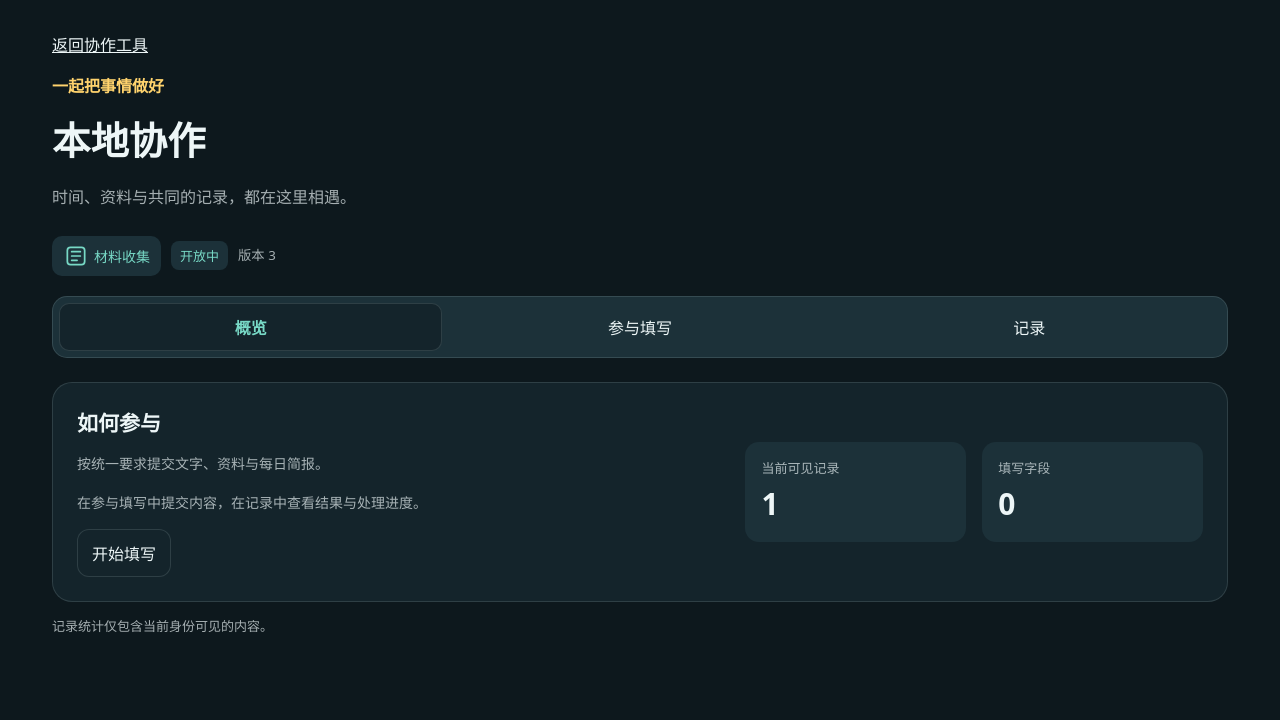
Test: refreshes versions after conflict while preserving the selected record and draft
Click the tab "参与填写". click: click(640, 326)
box: [448,302,832,350]
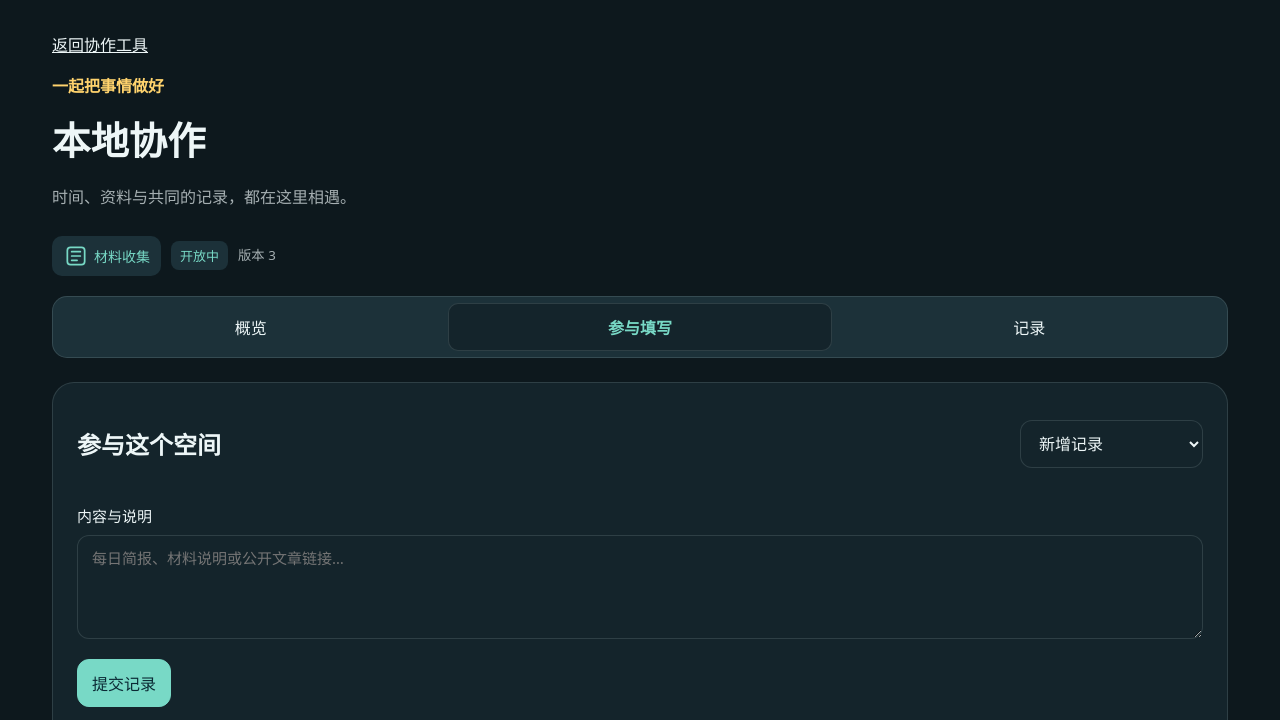
Select "同学 · 10/12 08:00" in the dropdown named "编辑现有记录". click: (1112, 444)
box: [1020,420,1203,468]
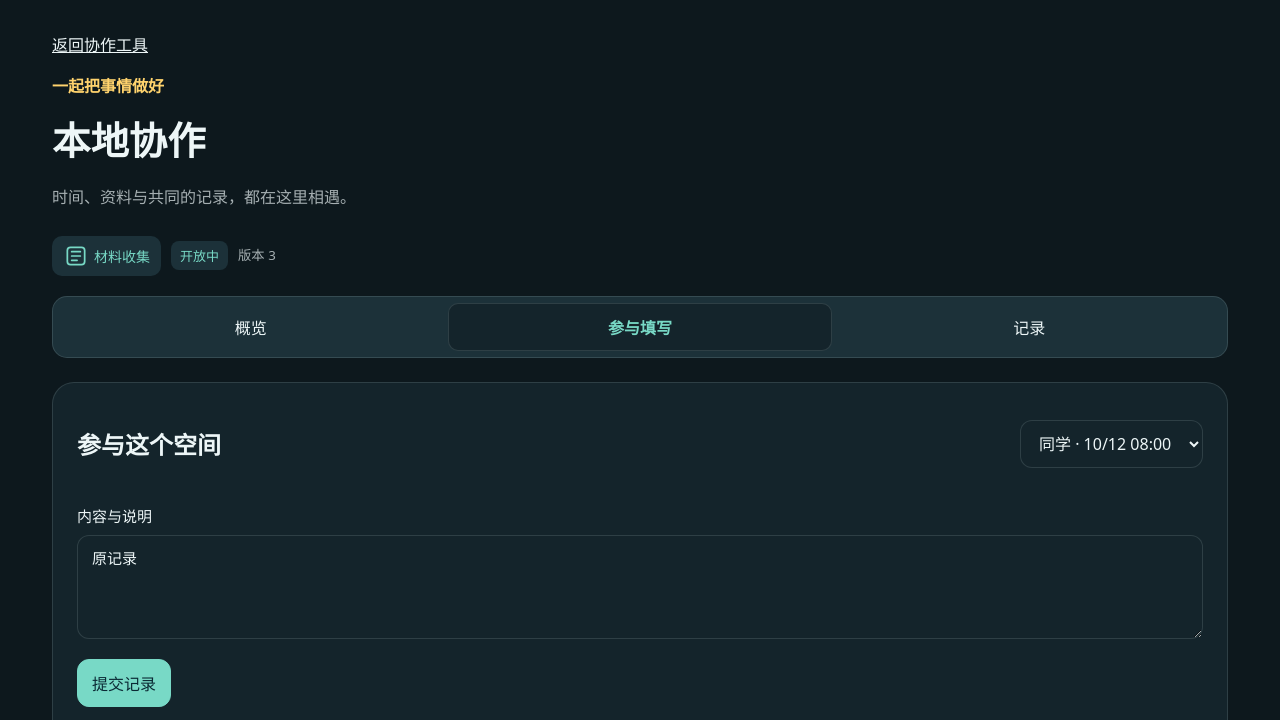
Replace the text in the text box labelled "内容与说明" with "Unsaved draft". click: (640, 587)
box: [77,535,1203,639]
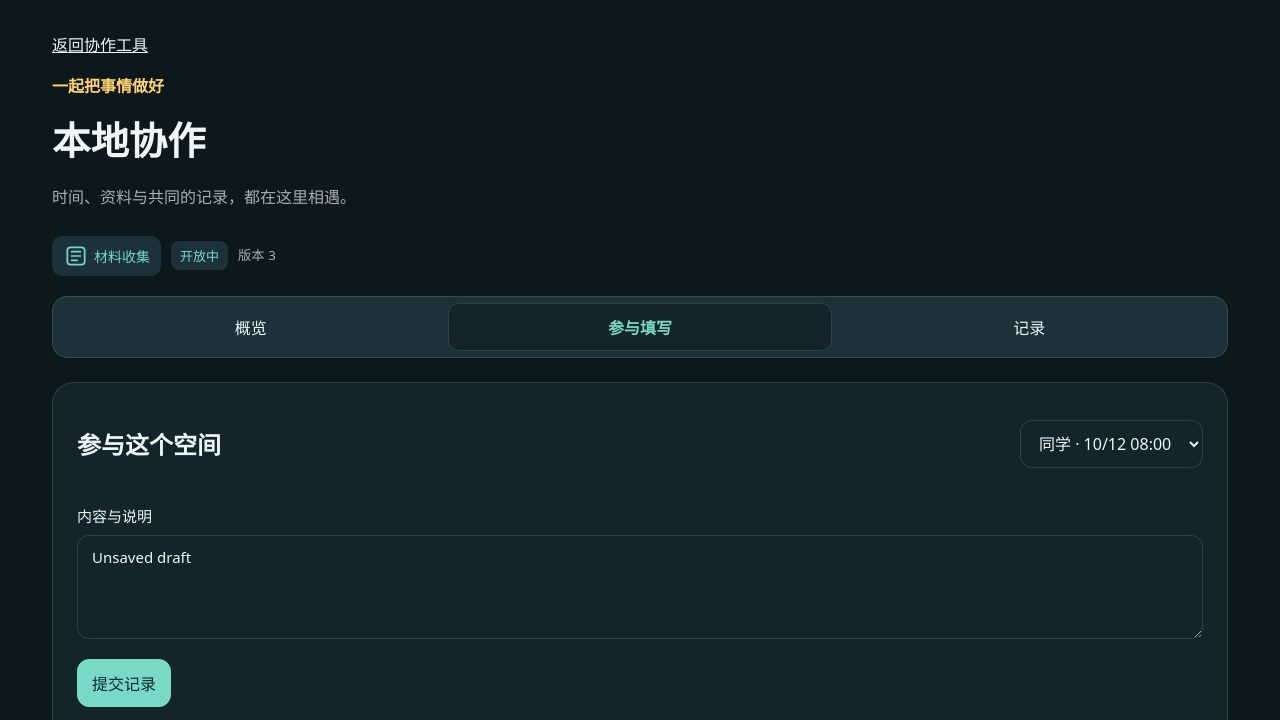
Click the button "提交记录". click: click(124, 683)
box: [77,659,171,707]
(page scrolled)
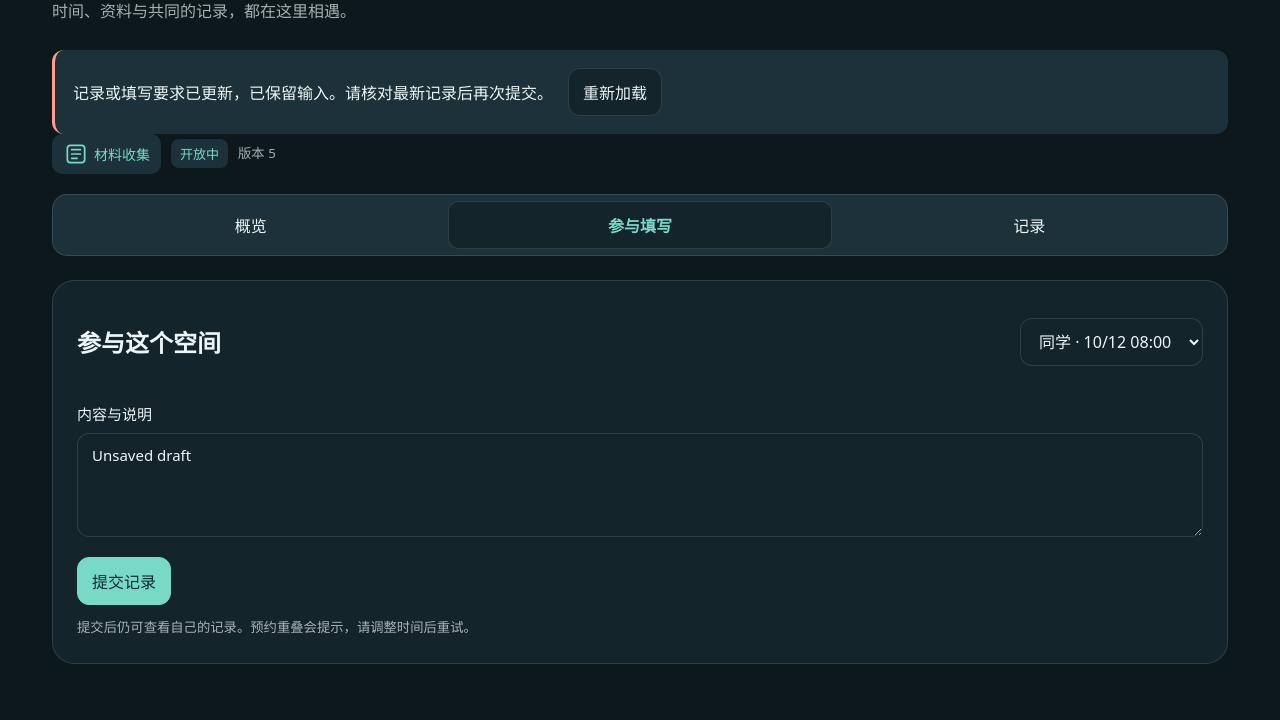
Now the text "版本 5" is shown, box [238,142,276,164]
Click the button "提交记录". click: click(124, 581)
box: [77,557,171,605]
(page scrolled)
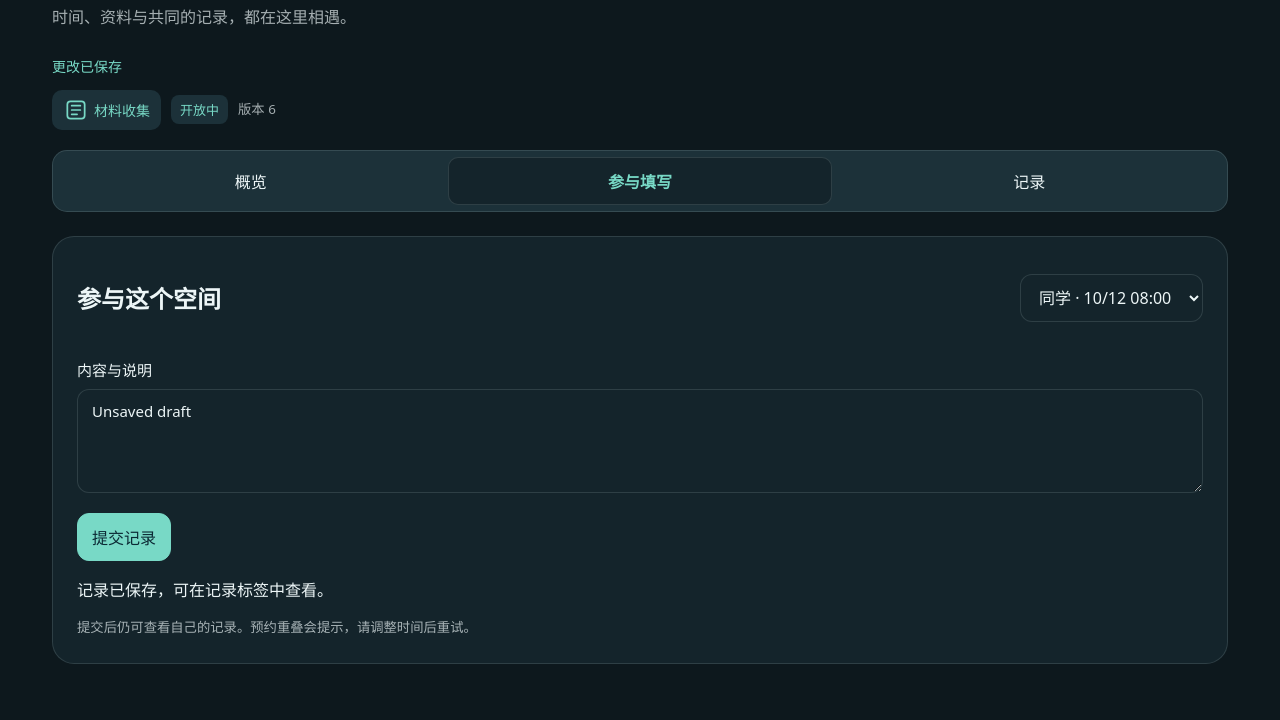
Now the text "版本 6" is shown, box [238,98,276,120]
